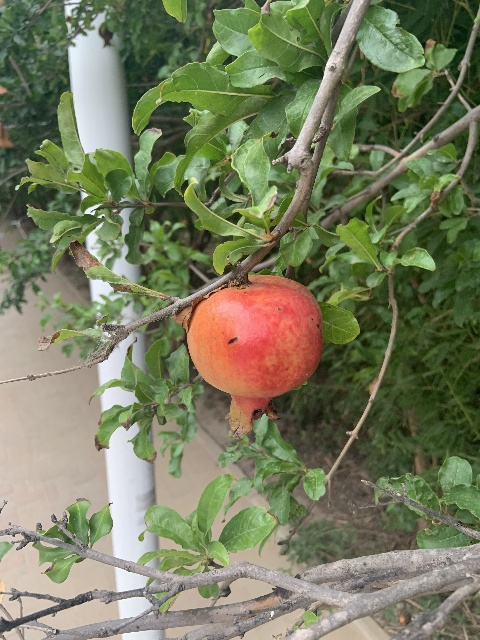ripe: (187, 276, 323, 435)
